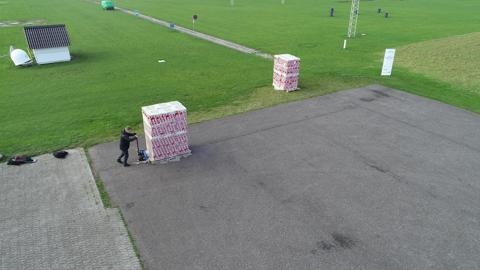RockwoolPallet: (140, 104, 189, 156)
